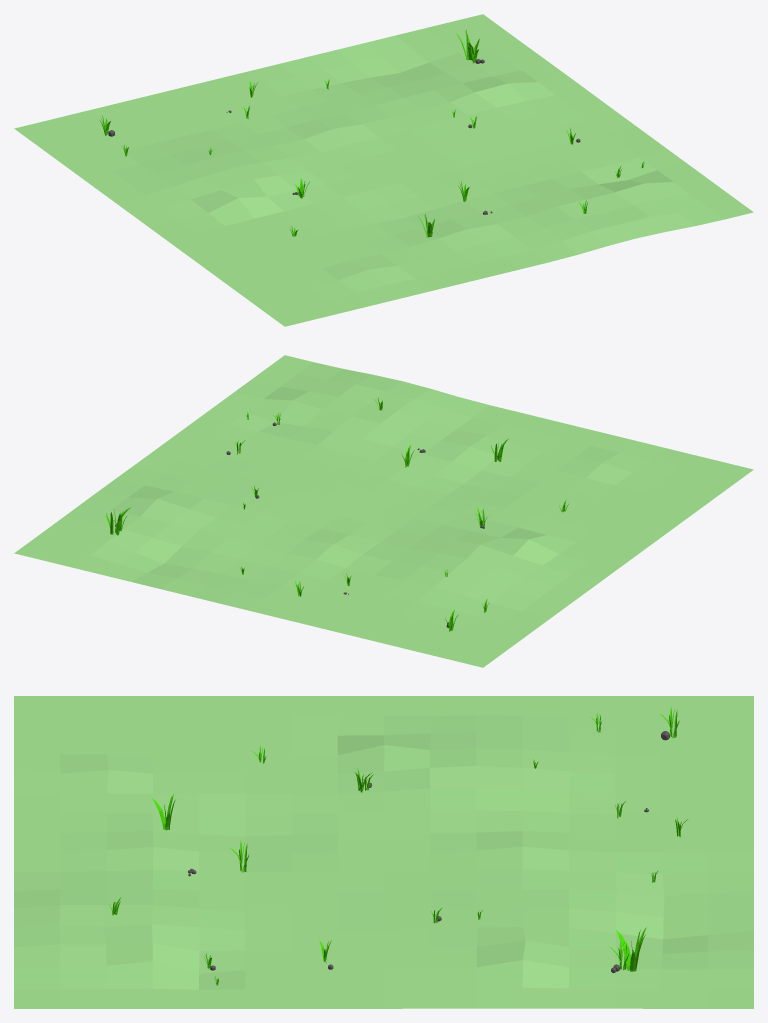
File: ground.fbx
3 renders of one model, top to bottom at view 1: azimuth 30°, elevation 25°; view 2: azimuth 150°, elevation 25°; view 3: azimuth 270°, elevation 25°, orthographic. The views are drawn at different scales.
Parts seen in each view (by area): view 1: Plane, Plane.001; view 2: Plane, Plane.001; view 3: Plane, Plane.001.
Boxes of the visible parts, x1,y1,x2,y2 form: Plane: [14, 14, 753, 326]; Plane.001: [99, 30, 644, 237]; Plane: [14, 355, 753, 667]; Plane.001: [106, 398, 568, 631]; Plane: [14, 696, 753, 1008]; Plane.001: [109, 707, 688, 985].
Size of the model in its own units: 200 by 16.04 by 200.
